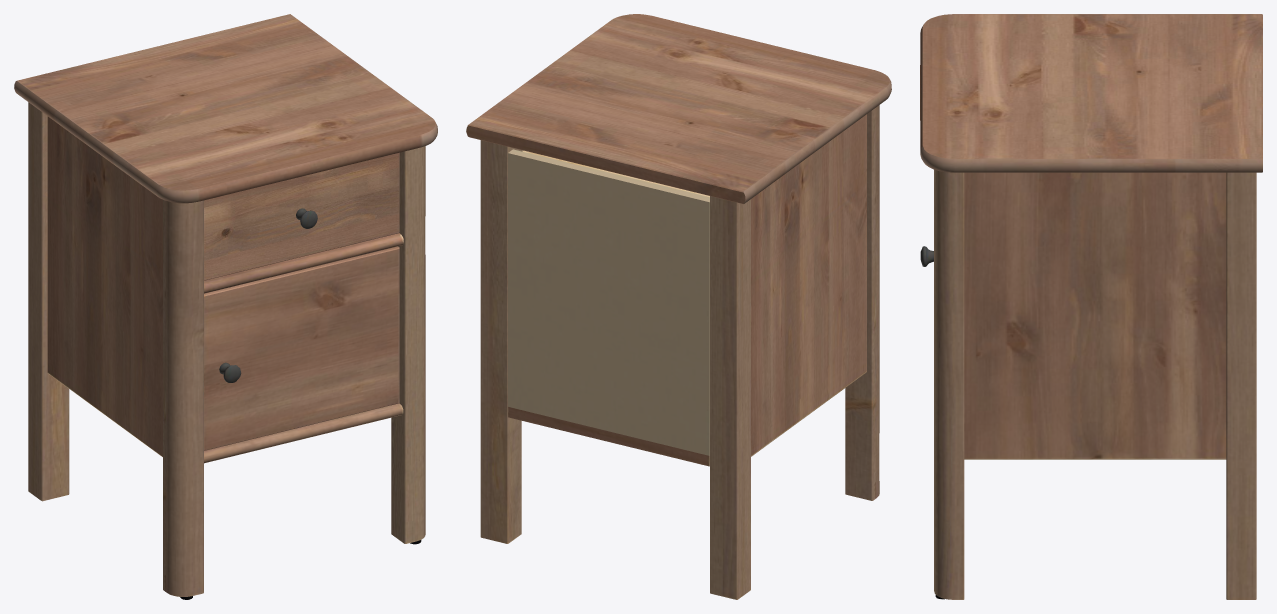
File: storemolla_nightstand_gray_brown_stained.glb
3 views of the same model, side by side, from view 1: azimuth 30°, elevation 25°; view 2: azimuth 150°, elevation 25°; view 3: azimuth 270°, elevation 25° (orthographic). The views are drawn at different scales.
Parts seen in each view (by area): view 1: ASY_ART_70590924_S01_NV01, ASY_LPT01_70590924_S01_NV01; view 2: ASY_ART_70590924_S01_NV01; view 3: ASY_ART_70590924_S01_NV01.
Part boxes in pixels (x1,y1,x2,y2): ASY_ART_70590924_S01_NV01: (14,14,437,599); ASY_LPT01_70590924_S01_NV01: (204,152,399,280); ASY_ART_70590924_S01_NV01: (466,14,891,599); ASY_ART_70590924_S01_NV01: (920,14,1262,599).
Bounding box in the file's own units: 0.5048 × 0.7191 × 0.4964.
2 materials, 2 textured.
